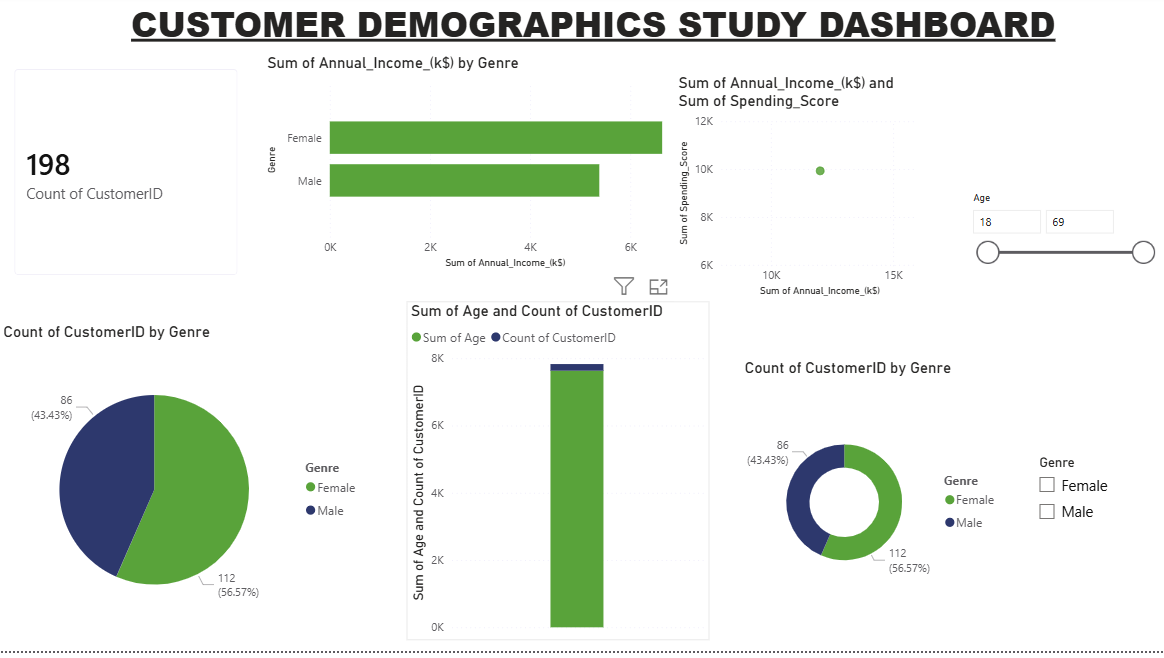

Layout of this report page (visuals, bound fields, positions):
{"tool":"powerbi","page":{"name":"Page 1","canvas":[1280,720],"ordinal":0},"visuals":[{"type":"cardVisual","fields":{"Data":["CountNonNull(Mall_Customers.CustomerID)"]},"box":[0,64.5,279.9,260.7],"z":0},{"type":"pieChart","fields":{"Category":["Mall_Customers.Genre"],"Y":["CountNonNull(Mall_Customers.CustomerID)"]},"box":[0,359.5,406.2,348.5],"z":1},{"type":"barChart","fields":{"Category":["Mall_Customers.Genre"],"Y":["Sum(Mall_Customers.Annual_Income_(k$))"]},"box":[289.5,64.5,470.7,240.1],"z":2},{"type":"columnChart","fields":{"Y":["Sum(Mall_Customers.Age)","CountNonNull(Mall_Customers.CustomerID)"]},"box":[447.3,336.2,332.1,371.9],"z":3},{"type":"scatterChart","fields":{"X":["Sum(Mall_Customers.Annual_Income_(k$))"],"Y":["Sum(Mall_Customers.Spending_Score)"]},"box":[741,86.4,282.7,249.7],"z":4},{"type":"donutChart","fields":{"Category":["Mall_Customers.Genre"],"Y":["CountNonNull(Mall_Customers.CustomerID)"]},"box":[813.7,399.3,293.7,296.4],"z":5},{"type":"textbox","box":[140,0,1107.4,64.5],"z":6},{"type":"slicer","fields":{"Values":["Mall_Customers.Genre"]},"box":[1129.3,499.5,150.9,96.1],"z":7},{"type":"slicer","fields":{"Values":["Mall_Customers.Age"]},"box":[1056.6,211.3,223.7,93.3],"z":8}]}

Visuals, with their boxes in screenshot pixels (x1, y1, x2, y2), scaled from the page's 1280x720 canvas onto the 1164x658 screenshot:
cardVisual - CountNonNull(Mall_Customers.CustomerID): x1=0 y1=59 x2=255 y2=297
pieChart - Mall_Customers.Genre x CountNonNull(Mall_Customers.CustomerID): x1=0 y1=329 x2=369 y2=647
barChart - Mall_Customers.Genre x Sum(Mall_Customers.Annual_Income_(k$)): x1=263 y1=59 x2=691 y2=278
columnChart - Sum(Mall_Customers.Age) x CountNonNull(Mall_Customers.CustomerID): x1=407 y1=307 x2=709 y2=647
scatterChart - Sum(Mall_Customers.Annual_Income_(k$)) x Sum(Mall_Customers.Spending_Score): x1=674 y1=79 x2=931 y2=307
donutChart - Mall_Customers.Genre x CountNonNull(Mall_Customers.CustomerID): x1=740 y1=365 x2=1007 y2=636
textbox: x1=127 y1=0 x2=1134 y2=59
slicer - Mall_Customers.Genre: x1=1027 y1=456 x2=1163 y2=544
slicer - Mall_Customers.Age: x1=961 y1=193 x2=1163 y2=278
